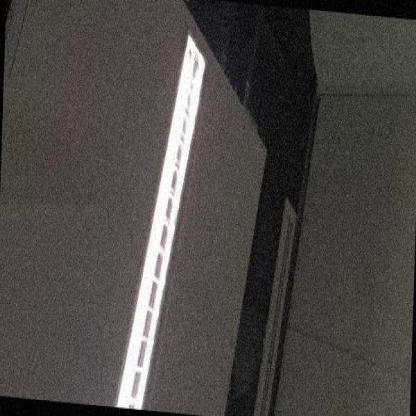light_on: (110, 20, 215, 416)
